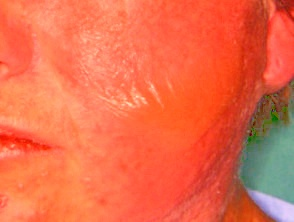SJS-TEN: (88, 31, 277, 184)
